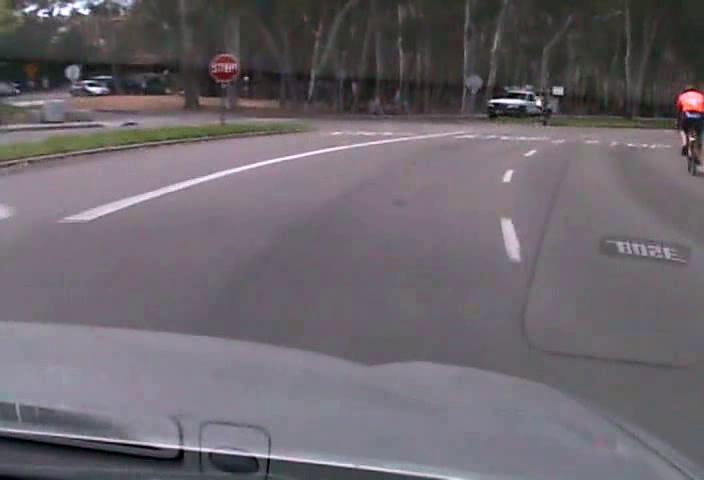stop: (208, 52, 239, 83)
